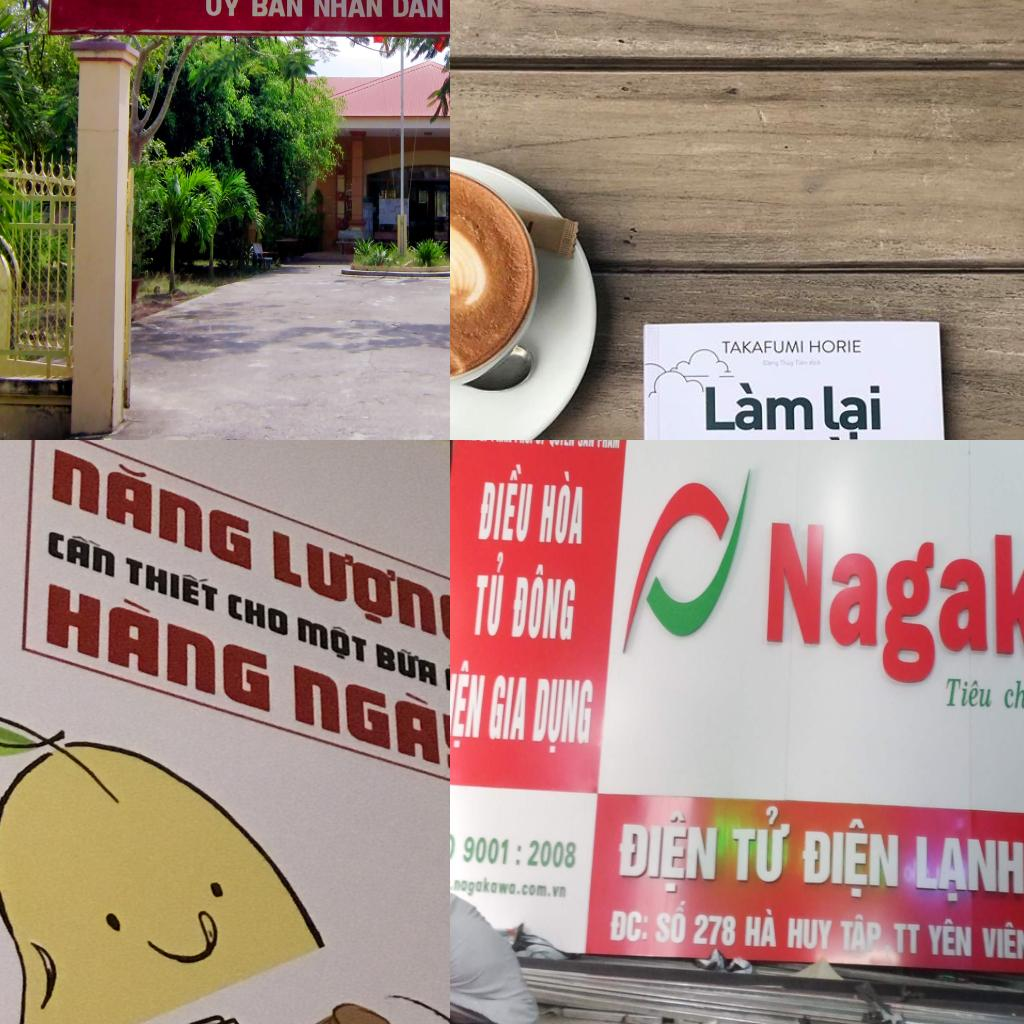text: (764, 518, 1024, 691), (38, 573, 272, 717), (44, 440, 254, 573), (266, 525, 450, 659), (799, 812, 900, 902), (613, 812, 719, 894), (916, 836, 1024, 907), (120, 552, 220, 615), (702, 380, 814, 433), (510, 562, 577, 645), (530, 676, 594, 760), (727, 805, 792, 886), (476, 458, 535, 546), (294, 611, 369, 668), (45, 525, 118, 580), (538, 465, 584, 548), (372, 636, 440, 690), (450, 656, 487, 753), (450, 873, 568, 903), (820, 383, 882, 440), (225, 590, 291, 638), (472, 550, 506, 637), (486, 674, 526, 743), (978, 918, 1024, 965), (460, 832, 514, 871), (928, 917, 974, 958), (526, 836, 578, 870), (786, 918, 835, 954), (841, 912, 883, 954), (691, 914, 737, 950), (942, 677, 994, 708), (720, 338, 805, 356), (656, 900, 688, 947), (744, 907, 778, 950), (609, 911, 648, 941), (314, 0, 382, 17), (894, 922, 922, 958), (807, 338, 862, 356), (1003, 669, 1024, 713), (392, 0, 443, 18), (252, 0, 302, 17), (204, 0, 243, 17), (440, 660, 450, 705), (596, 440, 621, 450), (514, 842, 524, 867), (548, 440, 575, 448), (578, 440, 596, 449), (491, 440, 515, 446), (514, 440, 536, 446), (536, 440, 548, 445), (479, 440, 490, 445)
